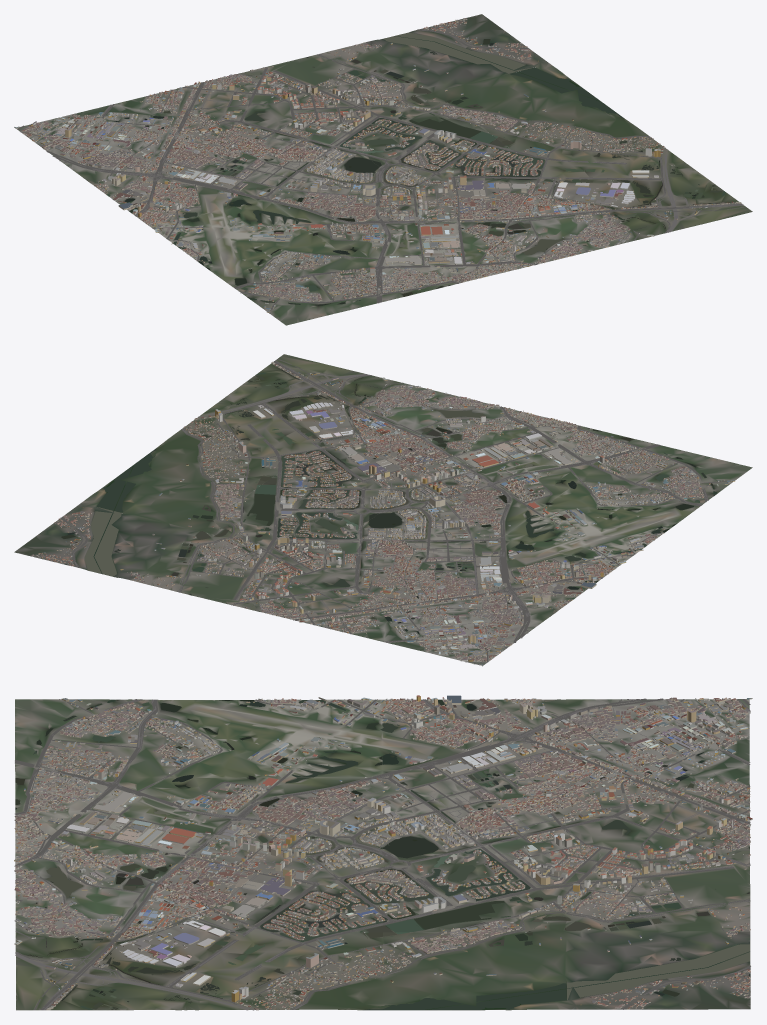
3 views of the same model, one above another, from view 1: azimuth 30°, elevation 25°; view 2: azimuth 150°, elevation 25°; view 3: azimuth 270°, elevation 25° (orthographic). The views are drawn at different scales.
Parts seen in each view (by area): view 1: ground, buildings, roads, water; view 2: ground, buildings, roads, water; view 3: ground, buildings, roads, water.
Part boxes in pixels (x1,y1,x2,y2): ground: (16,14,752,325); buildings: (14,18,741,312); roads: (17,19,745,313); water: (87,26,725,305); ground: (14,354,752,665); buildings: (31,361,735,666); roads: (37,359,726,664); water: (61,370,717,634); ground: (15,699,750,1010); buildings: (14,695,752,1010); roads: (14,698,750,1010); water: (15,699,750,1010).
Size of the model in its own units: 5646 by 96.5 by 5641.
